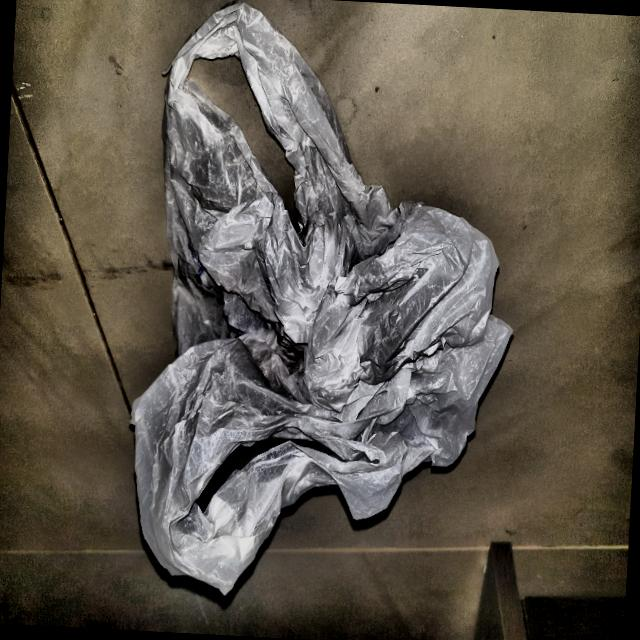plastic bag: (110, 0, 540, 614)
